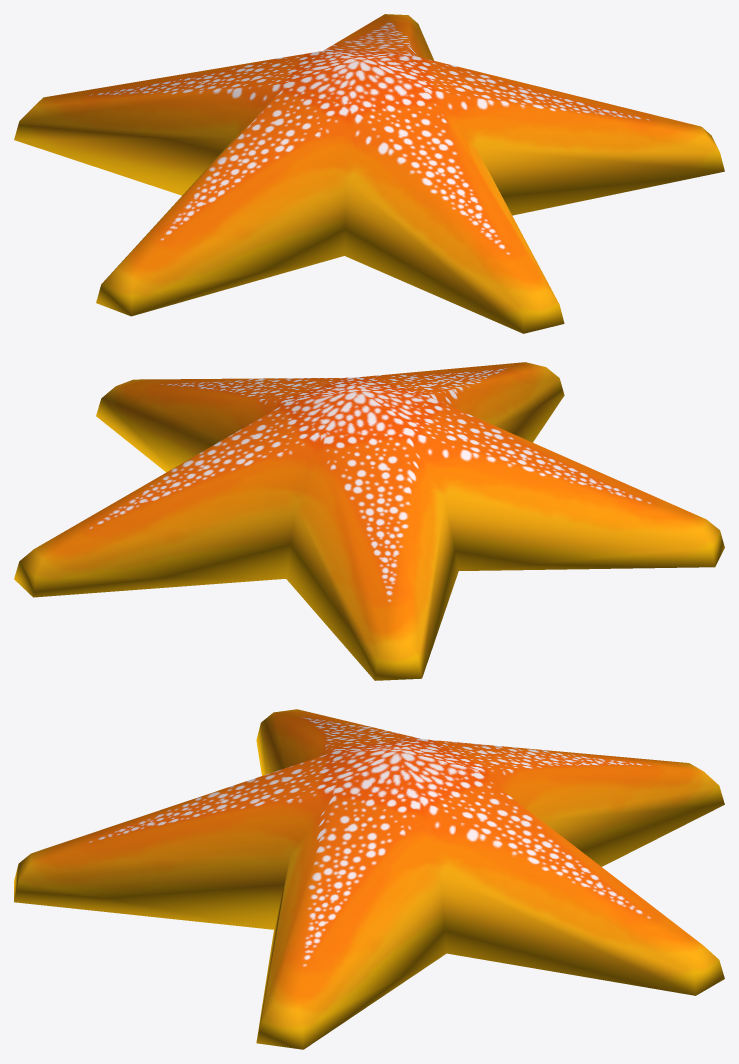
The model's file is starfish.fbx.
3 renders of one model, top to bottom at view 1: azimuth 30°, elevation 25°; view 2: azimuth 150°, elevation 25°; view 3: azimuth 270°, elevation 25°, orthographic. The views are drawn at different scales.
Visible parts, largest first — view 1: Sphere; view 2: Sphere; view 3: Sphere.
Boxes of the visible parts, x1=… form: Sphere: x1=14, y1=14, x2=724, y2=333; Sphere: x1=14, y1=362, x2=724, y2=680; Sphere: x1=14, y1=709, x2=724, y2=1049.
Bounding box in the file's own units: 79.35 × 16.44 × 75.46.
